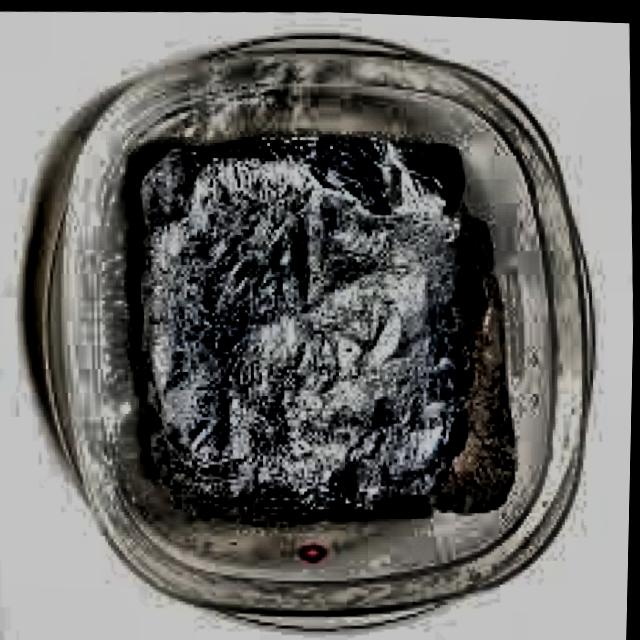Foil: (95, 104, 537, 542)
